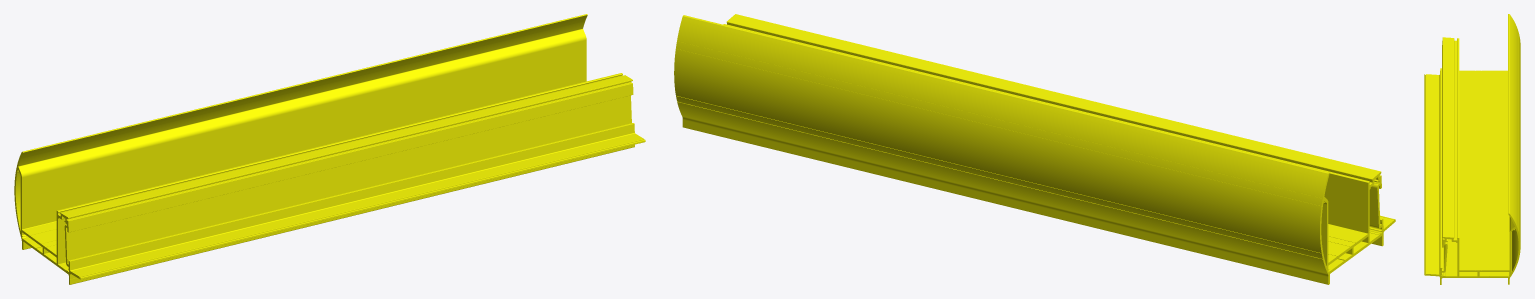
The model's file is gutter.glb.
3 renders of one model, left to right at view 1: azimuth 30°, elevation 25°; view 2: azimuth 150°, elevation 25°; view 3: azimuth 270°, elevation 25°, orthographic. The views are drawn at different scales.
Visible parts, largest first — view 1: Regenrinne_Premium_Taslak_2_1; view 2: Regenrinne_Premium_Taslak_2_1; view 3: Regenrinne_Premium_Taslak_2_1.
Boxes of the visible parts, x1=… form: Regenrinne_Premium_Taslak_2_1: x1=14, y1=14, x2=645, y2=284; Regenrinne_Premium_Taslak_2_1: x1=674, y1=14, x2=1395, y2=284; Regenrinne_Premium_Taslak_2_1: x1=1424, y1=14, x2=1520, y2=284.
Size of the model in its own units: 1 by 0.1665 by 0.2037.
1 material, 1 textured.
